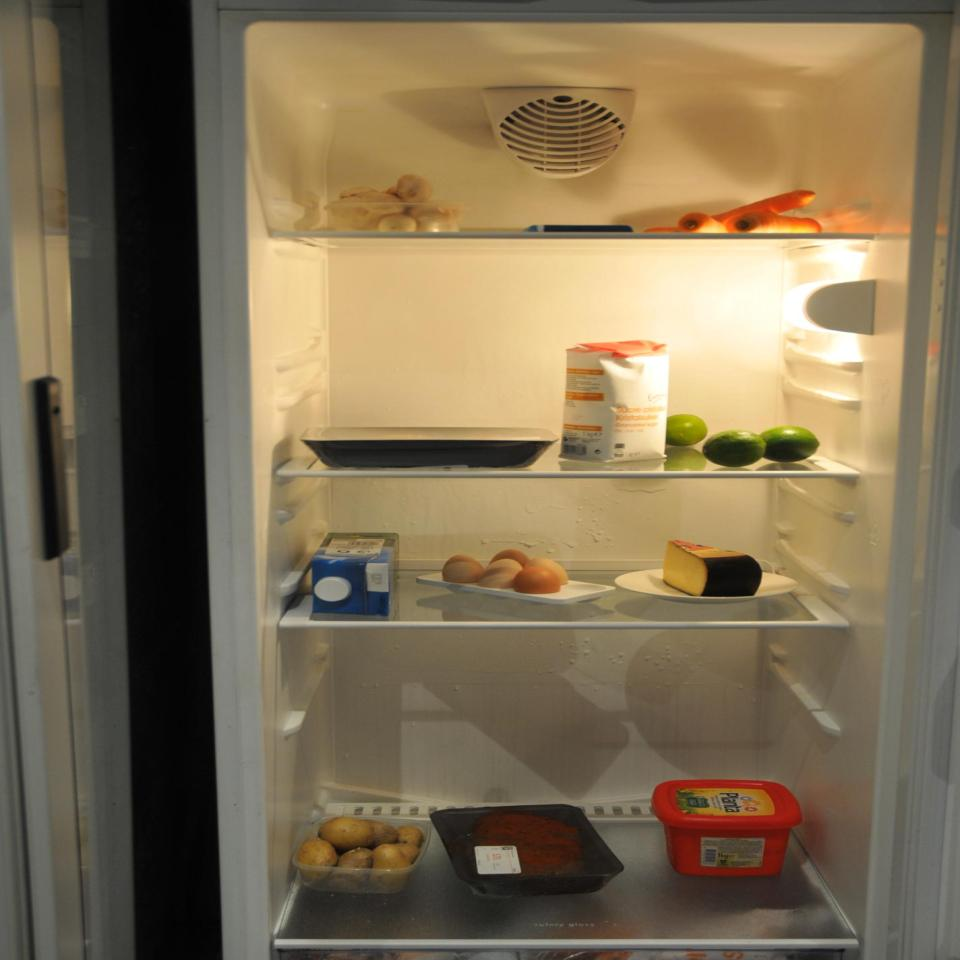Huevos: (440, 548, 570, 599)
Leche: (312, 528, 403, 618)
Mantequilla: (649, 778, 802, 880)
Queso: (658, 536, 764, 600)
Zanahoria: (633, 188, 829, 234)
lime: (651, 407, 827, 472)
